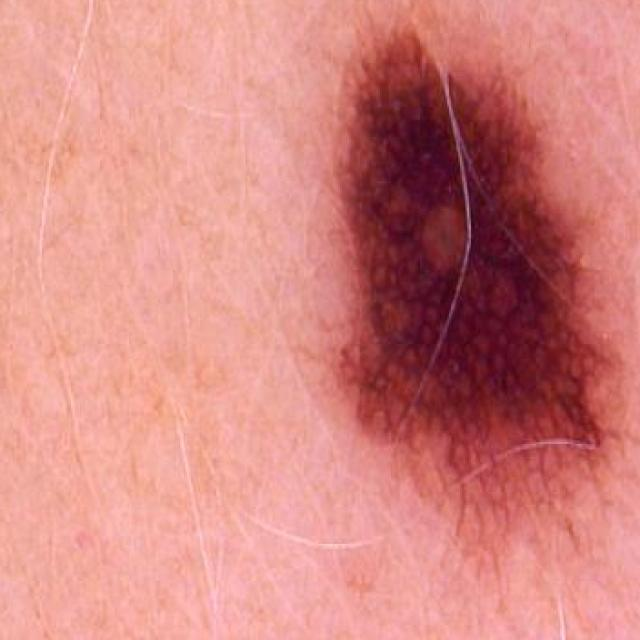NV: (291, 11, 640, 548)
